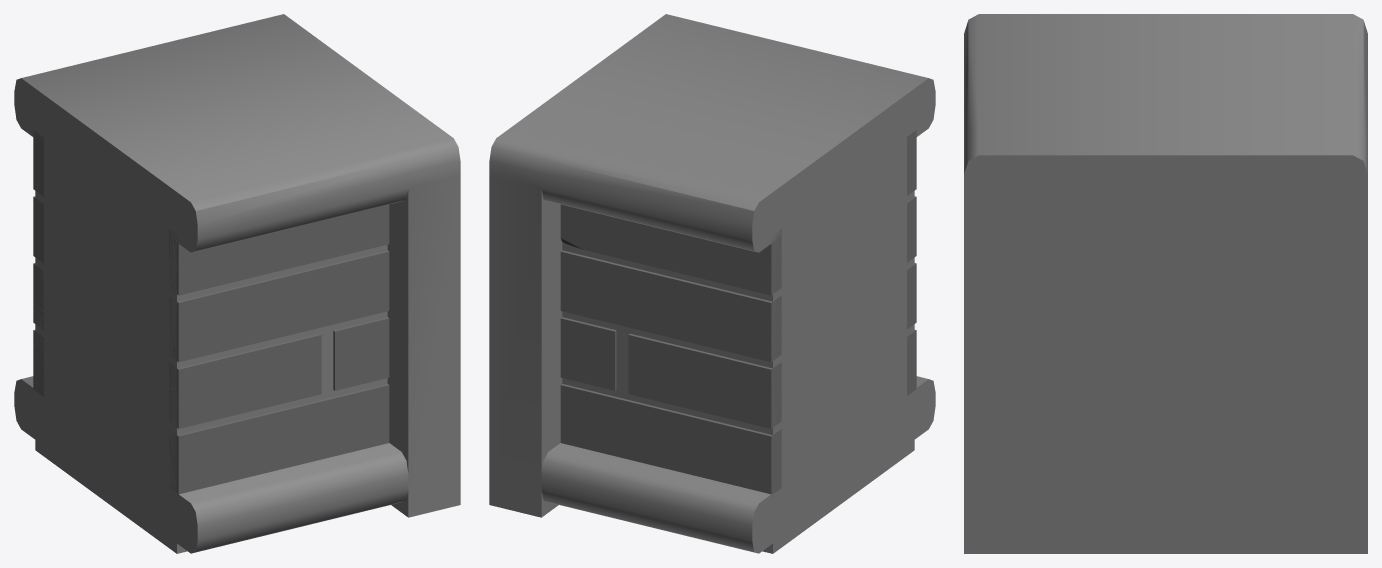
Rendered from space_counter_end.glb.
3 views of the same model, side by side, from view 1: azimuth 30°, elevation 25°; view 2: azimuth 150°, elevation 25°; view 3: azimuth 270°, elevation 25° (orthographic). The views are drawn at different scales.
Parts seen in each view (by area): view 1: Environment_Counter_End; view 2: Environment_Counter_End; view 3: Environment_Counter_End.
Boxes of the visible parts, x1,y1,x2,y2 form: Environment_Counter_End: (14, 14, 460, 553); Environment_Counter_End: (489, 14, 935, 553); Environment_Counter_End: (964, 14, 1367, 553).
Bounding box in the file's own units: 1.46 × 1.92 × 1.77.
1 material, 1 textured.
